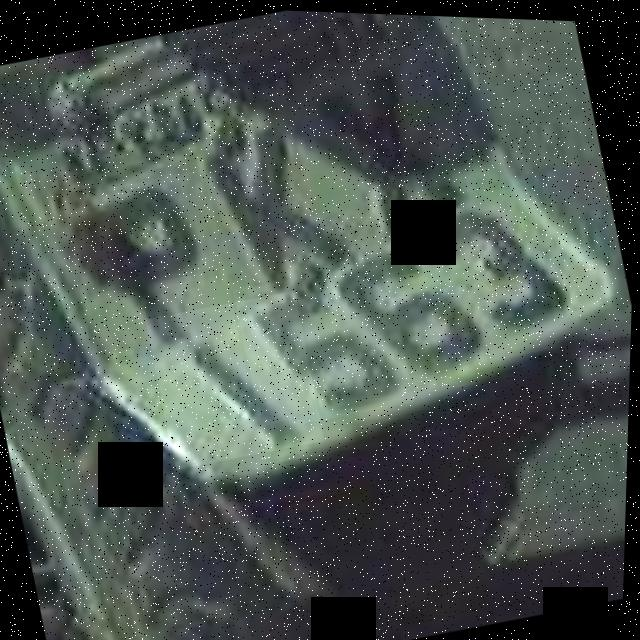1: (143, 283, 331, 472)
3: (407, 160, 587, 349)
5: (232, 253, 420, 433)
6: (323, 204, 507, 398)
P: (61, 163, 245, 371)
